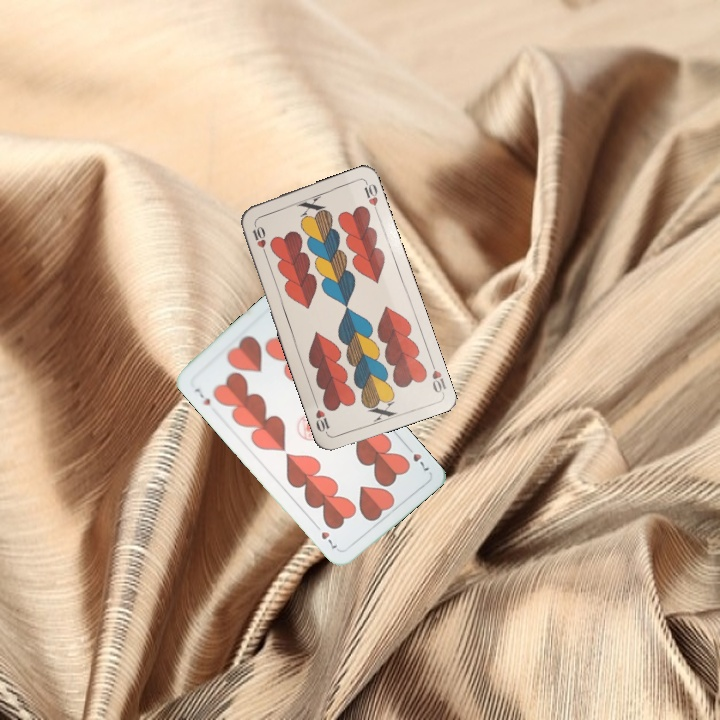H10: (427, 356, 449, 396), (248, 219, 269, 258)
H7: (402, 441, 432, 474), (191, 384, 213, 408)
